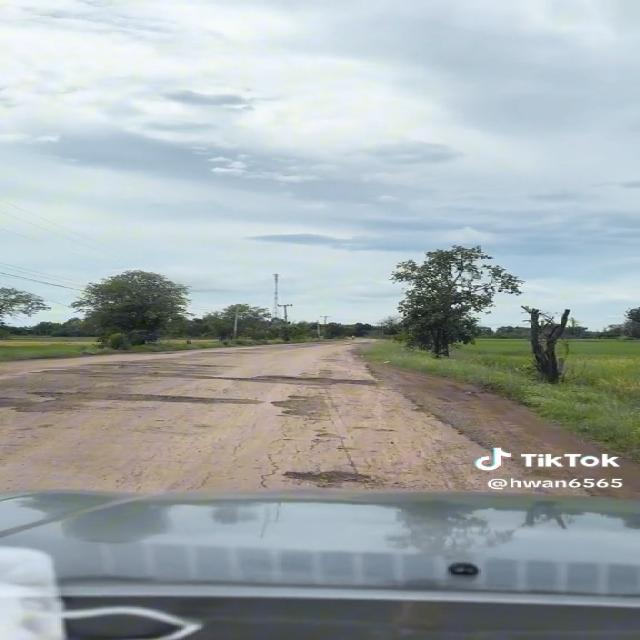Poth-hole: (192, 437, 364, 467)
